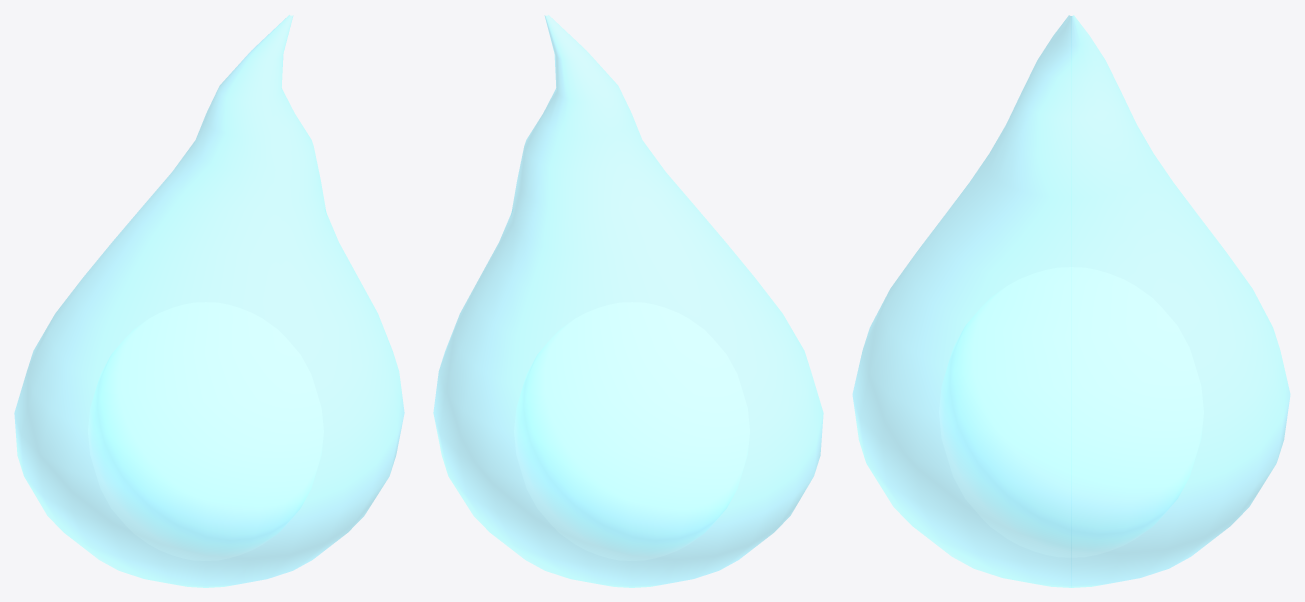
Rendered from Grace_ExportTest.glb.
3 renders of one model, left to right at view 1: azimuth 30°, elevation 25°; view 2: azimuth 150°, elevation 25°; view 3: azimuth 270°, elevation 25°, orthographic. The views are drawn at different scales.
Visible parts, largest first — view 1: Grace_Flame, Grace_BrightCore; view 2: Grace_Flame, Grace_BrightCore; view 3: Grace_Flame, Grace_BrightCore.
Part boxes in pixels (bbox=[...]): Grace_Flame: bbox=[14, 15, 404, 587]; Grace_BrightCore: bbox=[88, 302, 323, 560]; Grace_Flame: bbox=[433, 15, 823, 587]; Grace_BrightCore: bbox=[514, 302, 749, 560]; Grace_Flame: bbox=[852, 15, 1290, 587]; Grace_BrightCore: bbox=[939, 267, 1203, 557].
Bounding box in the file's own units: 0.0189 × 0.029 × 0.0189.
